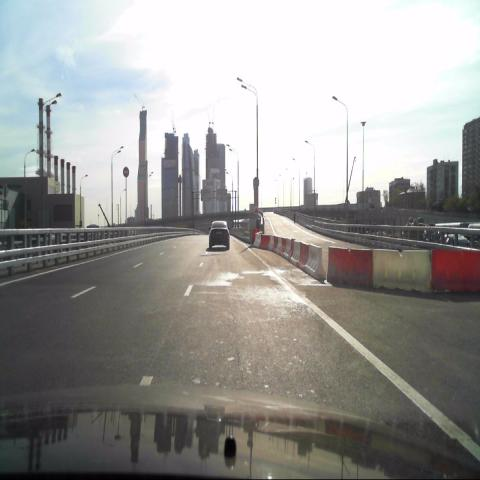3_1: (123, 166, 130, 178)
